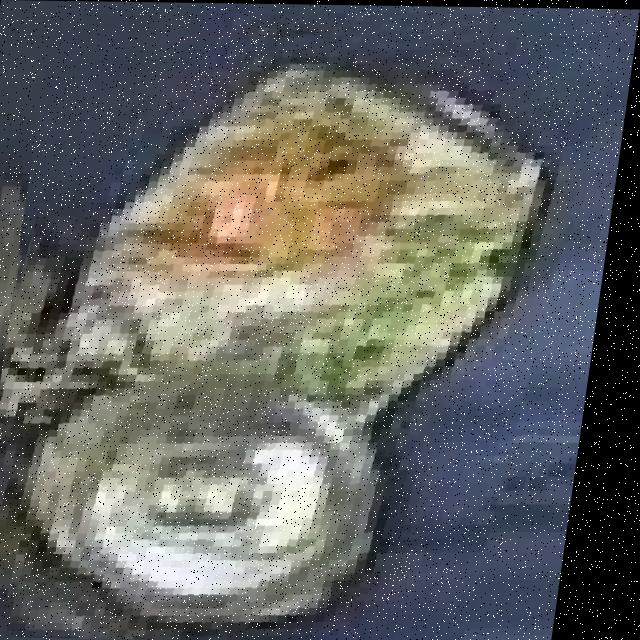litter: (0, 28, 602, 640)
